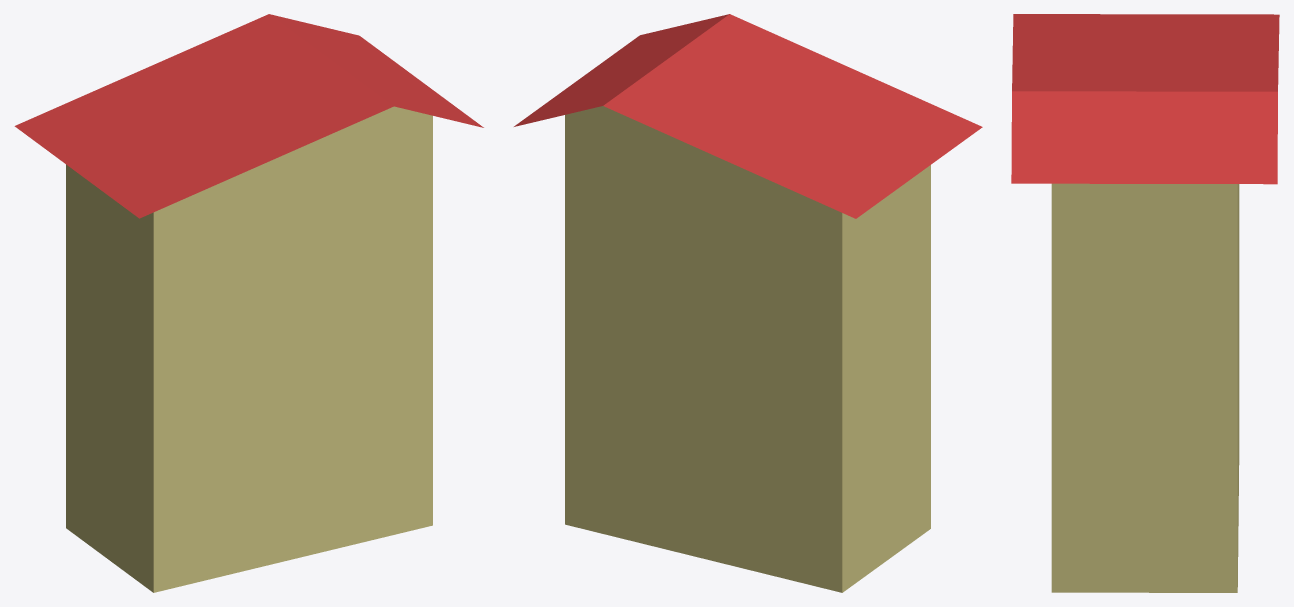
The picture shows the model from 3 angles, left to right: view 1: azimuth 30°, elevation 25°; view 2: azimuth 150°, elevation 25°; view 3: azimuth 270°, elevation 25°; orthographic projection. The views are drawn at different scales.
Bounding box in the file's own units: 5.26 × 3.35 × 6.5.
